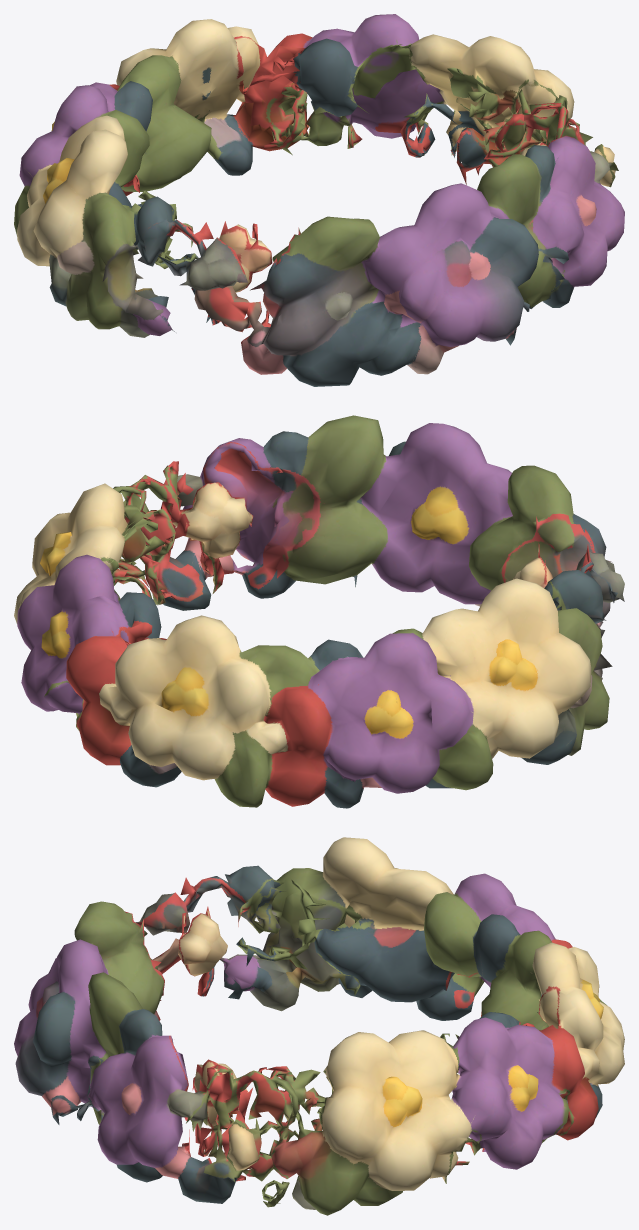
The model's file is flower_crown.glb.
3 views of the same model, one above another, from view 1: azimuth 30°, elevation 25°; view 2: azimuth 150°, elevation 25°; view 3: azimuth 270°, elevation 25° (orthographic). The views are drawn at different scales.
Visible parts, largest first — view 1: flower_crown; view 2: flower_crown; view 3: flower_crown.
Boxes of the visible parts, <box> form: flower_crown: <box>14,14,624,386</box>; flower_crown: <box>14,415,624,808</box>; flower_crown: <box>14,837,624,1215</box>.
Size of the model in its own units: 0.8684 by 0.2787 by 0.8819.
Materials: 1 (1 with a texture image).
